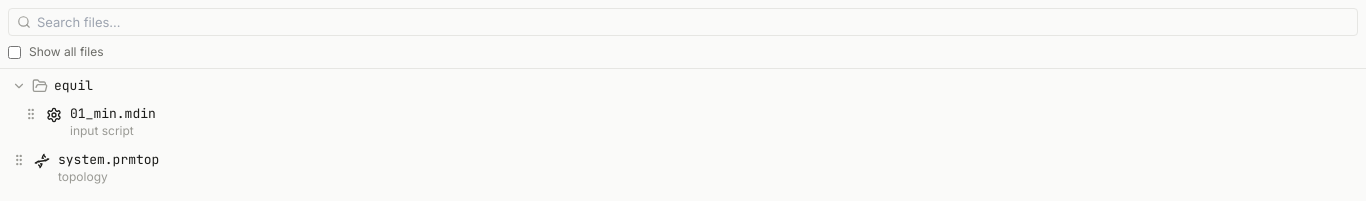
Test: FilePanel folder tree › search reveals a match inside a folder the user has collapsed
Click the button "equil" at (74, 86), box [4,73,1362,99]
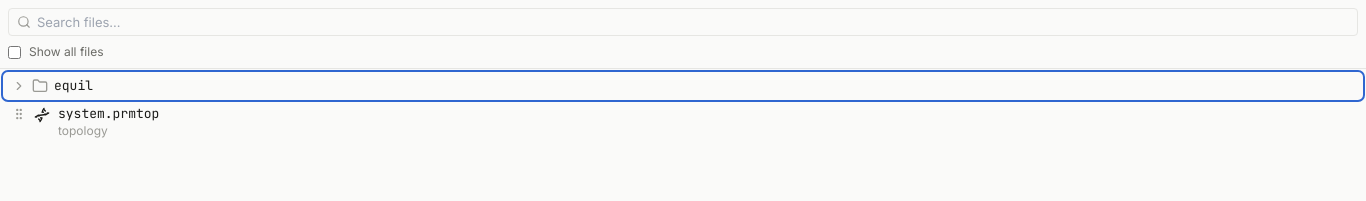
Check: the button "01_min.mdin" is gone
Type "01_min" into the field with placeholder "Search files…" at (693, 22), box [37,13,1349,31]
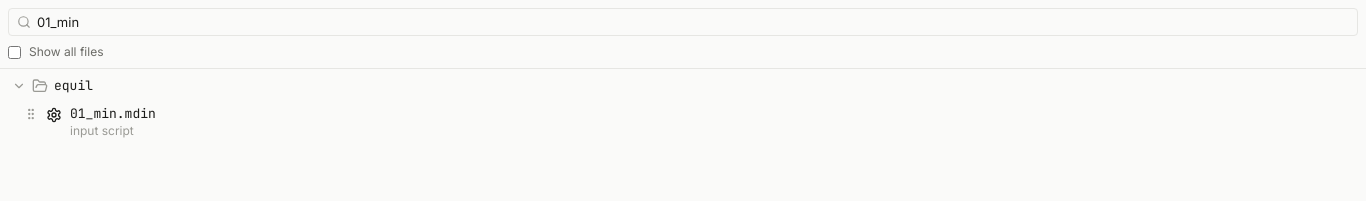
Check: the button "equil" is shown, box [4,73,1362,99]
Check: the button "01_min.mdin" is shown, box [70,105,1354,123]
Check: the button "system.prmtop" is gone
